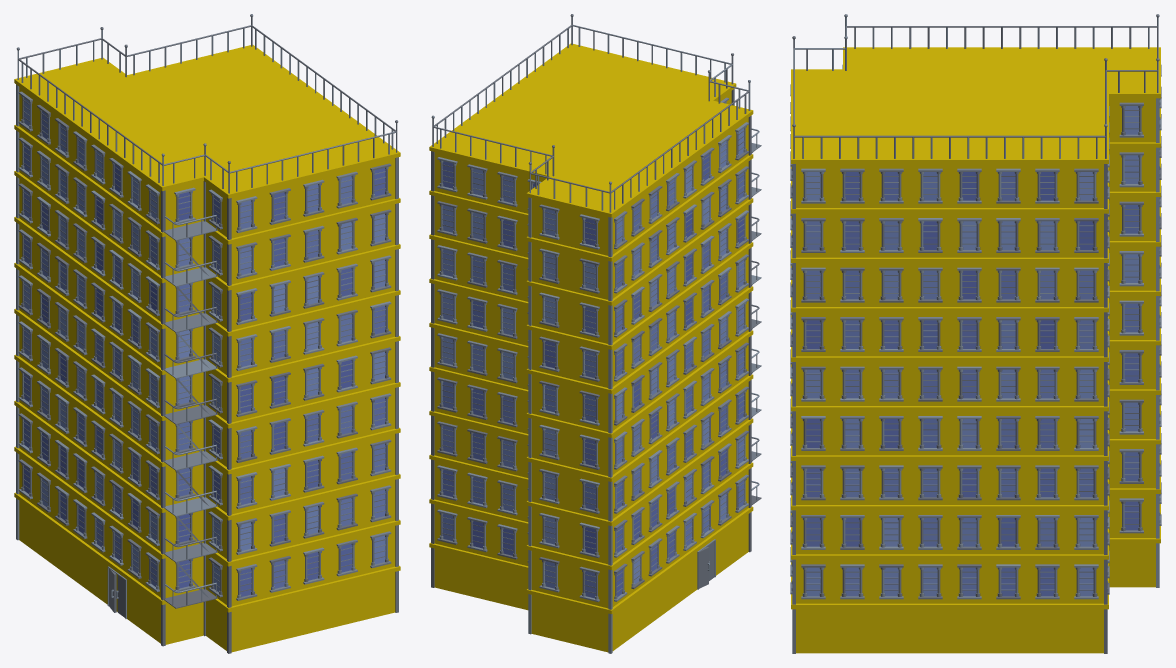
File: Building Procedural.020.fbx
The picture shows the model from 3 angles, left to right: view 1: azimuth 30°, elevation 25°; view 2: azimuth 150°, elevation 25°; view 3: azimuth 270°, elevation 25°; orthographic projection. The views are drawn at different scales.
Visible parts, largest first — view 1: Building Procedural.020; view 2: Building Procedural.020; view 3: Building Procedural.020.
Boxes of the visible parts, <box> form: Building Procedural.020: <box>14,14,400,653</box>; Building Procedural.020: <box>429,14,761,653</box>; Building Procedural.020: <box>790,14,1161,653</box>.
Size of the model in its own units: 1484 by 3210 by 2040.
